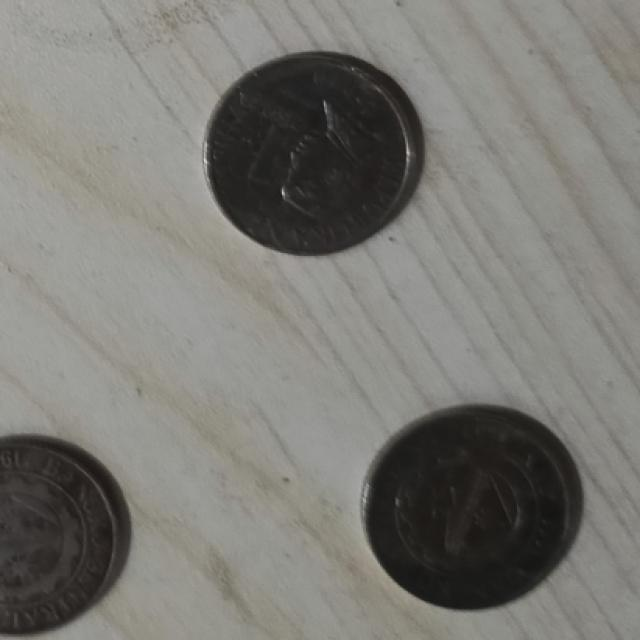1_peso: (363, 405, 581, 609), (206, 52, 420, 253), (0, 436, 128, 633)
